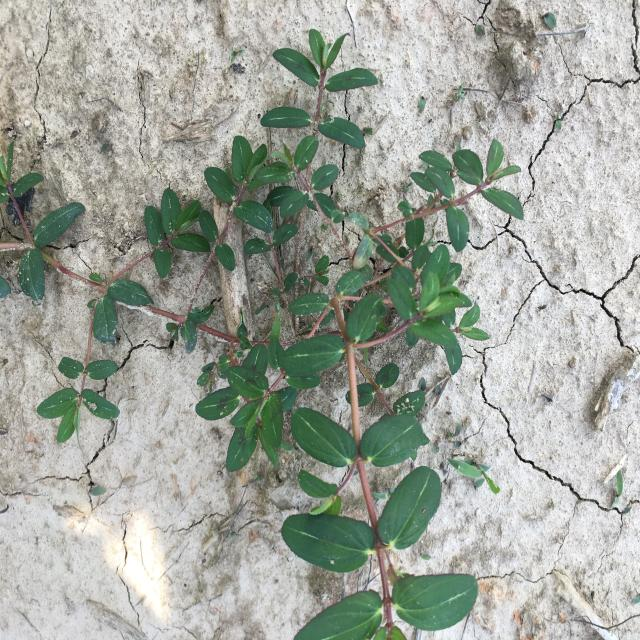SpottedSpurge: (1, 28, 524, 640)
